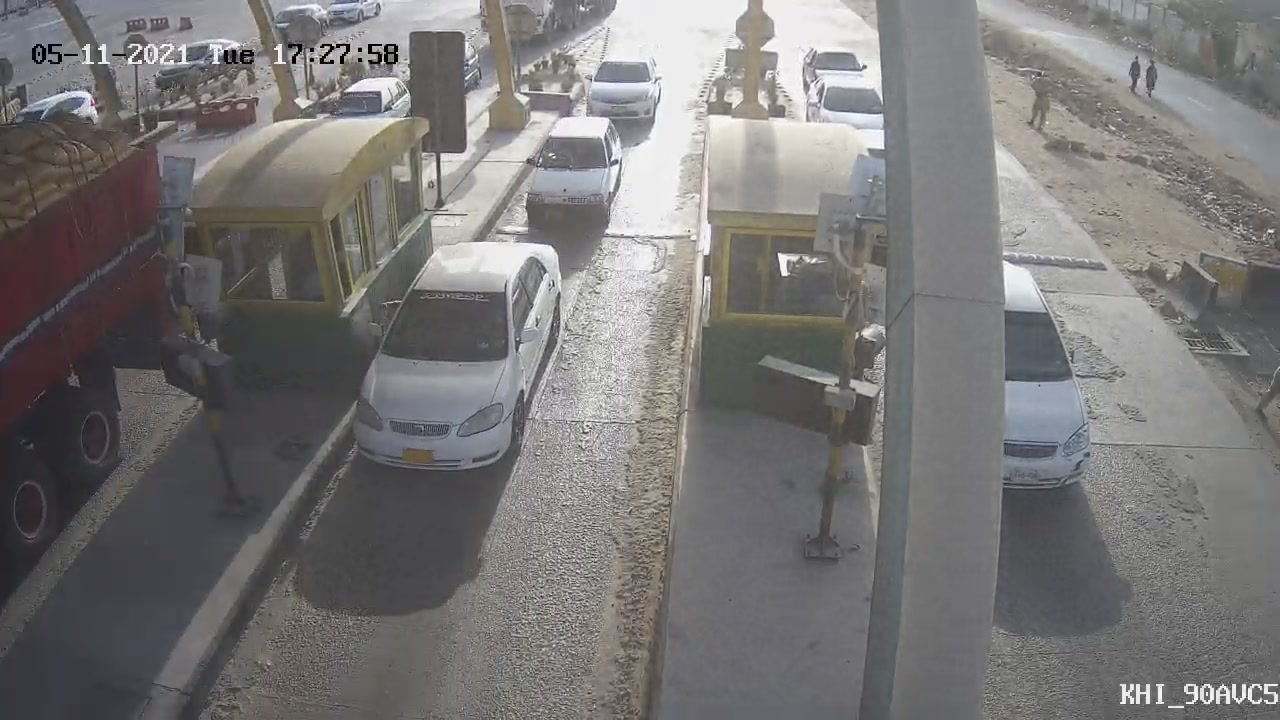F1: (330, 227, 576, 487), (508, 103, 633, 236)
